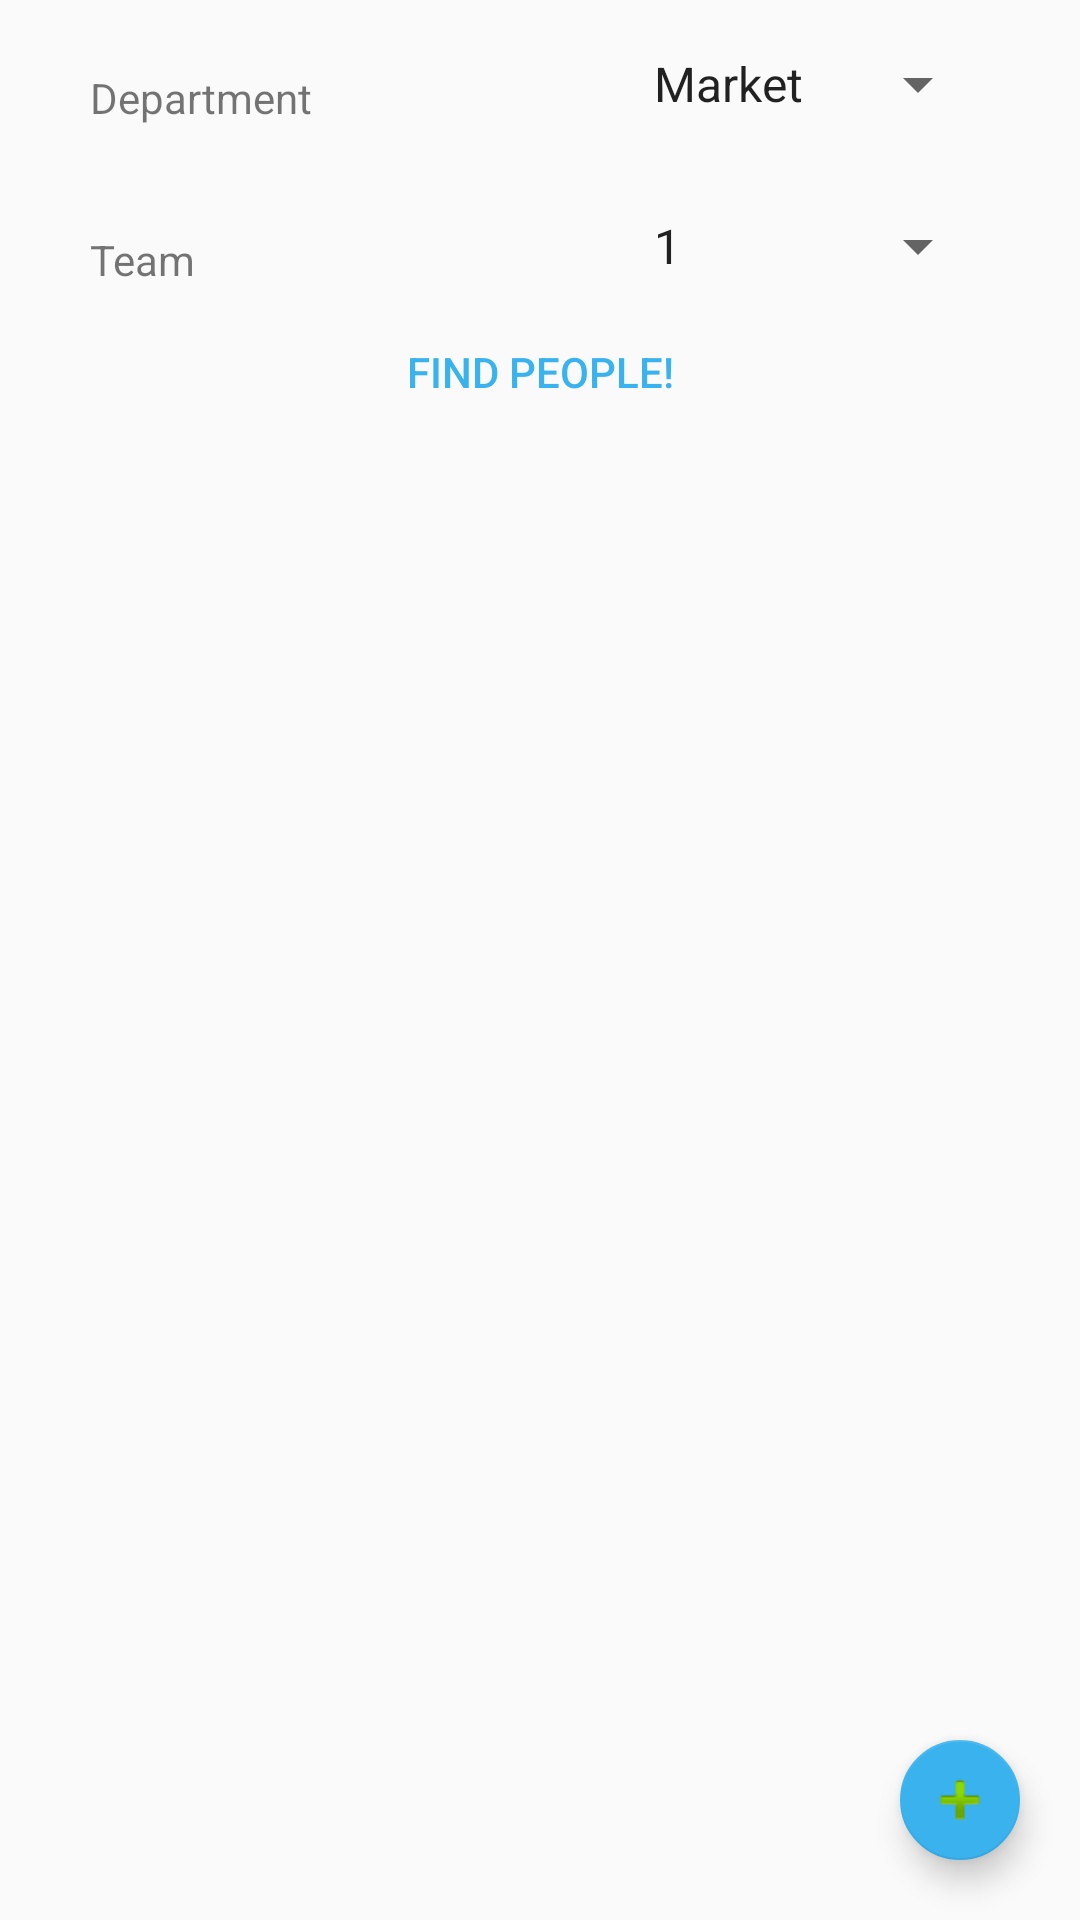

Locate icon controls on the screen. Image size 1080w x 1920h, boxes as (x1, y1, x2, y2).
add: (900, 1740, 1020, 1860)
